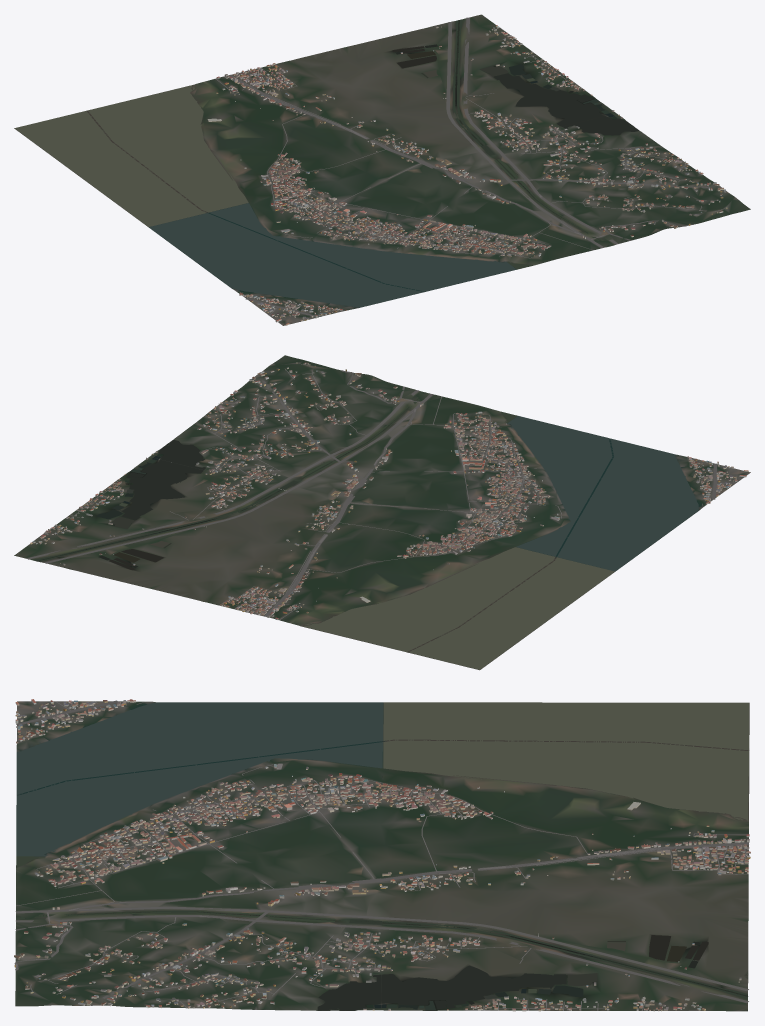
The picture shows the model from 3 angles, top to bottom: view 1: azimuth 30°, elevation 25°; view 2: azimuth 150°, elevation 25°; view 3: azimuth 270°, elevation 25°; orthographic projection. The views are drawn at different scales.
Parts seen in each view (by area): view 1: ground, water, buildings, roads; view 2: ground, water, buildings, roads; view 3: ground, water, buildings, roads.
Part boxes in pixels (<box>): ground: <box>14,14,750,325</box>; water: <box>14,19,639,307</box>; buildings: <box>207,25,727,325</box>; roads: <box>215,17,724,317</box>; ground: <box>14,355,750,670</box>; water: <box>34,391,698,669</box>; buildings: <box>30,362,748,619</box>; roads: <box>27,363,736,620</box>; ground: <box>15,701,749,1011</box>; water: <box>16,702,749,1010</box>; buildings: <box>14,699,750,1011</box>; roads: <box>14,700,748,1010</box>.
Bounding box in the file's own units: 2816 × 35.81 × 2820.
